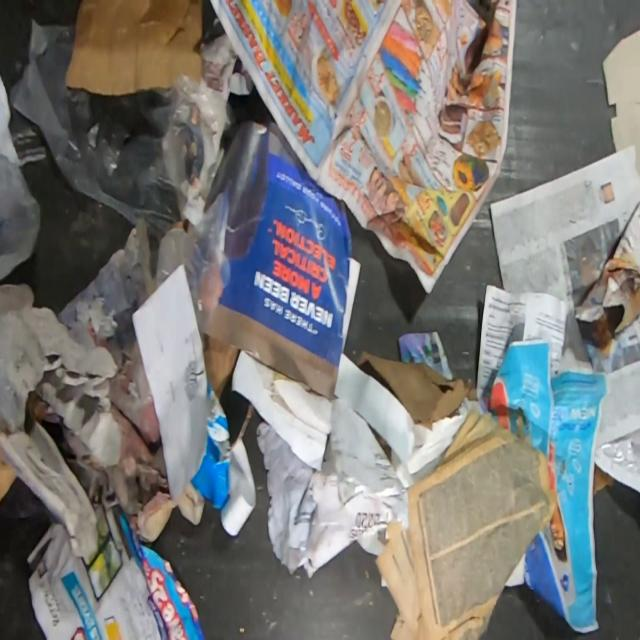cardboard: (65, 0, 203, 96), (201, 332, 239, 399)
soft_plastic: (9, 18, 351, 396), (0, 152, 42, 283)
